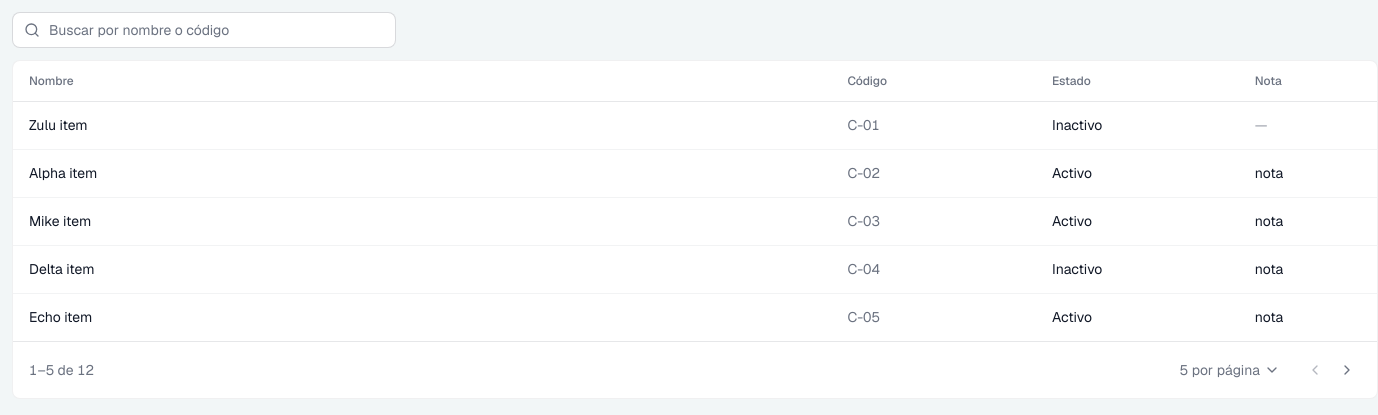
DataTable › filters from the search box and shows a no-matches state
This screenshot has width=1378, height=415.
Type "Alpha" into the search field named "Buscar en la tabla" at (204, 30), box [12, 12, 396, 48]
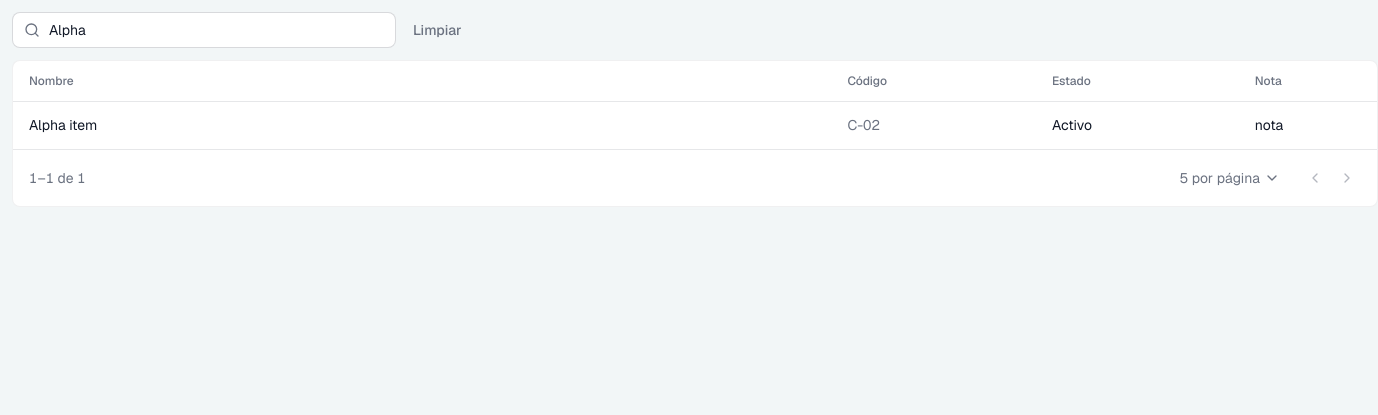
Expected: the text "1–1 de 1" is shown, [29, 168, 86, 188]
Replace the text in the search field named "Buscar en la tabla" with "sin-coincidencias" at (204, 30), box [12, 12, 396, 48]
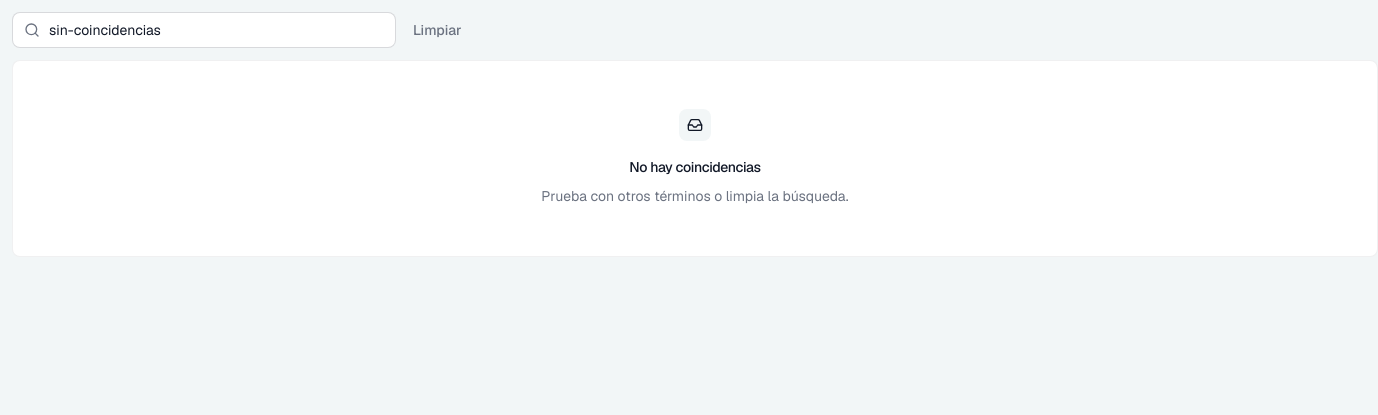
Expected: the text "No hay coincidencias" is shown, [629, 157, 761, 177]
